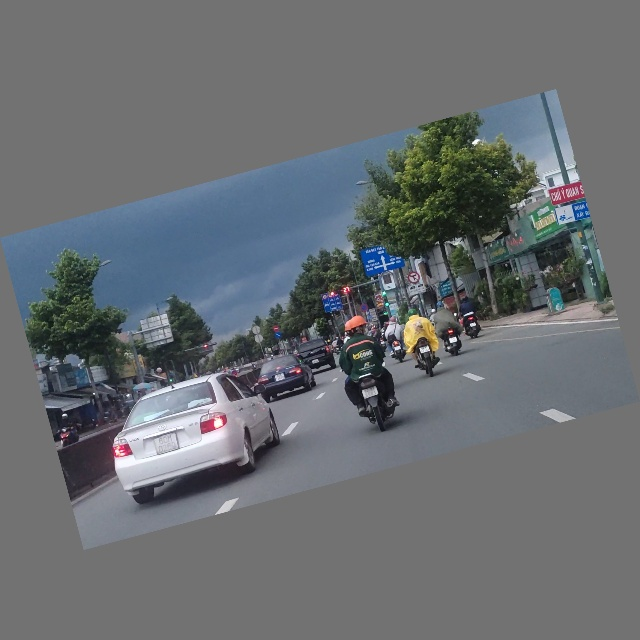P.102: (273, 326, 280, 333)
P.131a: (359, 304, 368, 313)
P.137: (406, 271, 422, 286)
R.302a: (274, 332, 282, 339)
R.415a: (322, 296, 343, 314)
